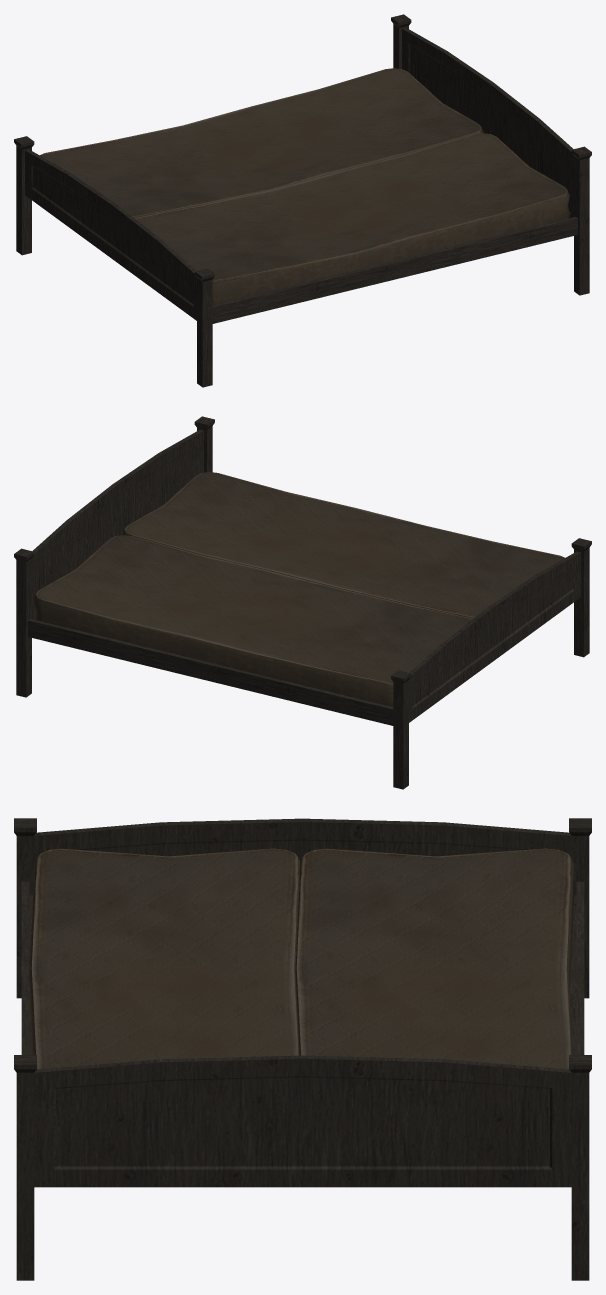
File: bed_4.obj
The picture shows the model from 3 angles, top to bottom: view 1: azimuth 30°, elevation 25°; view 2: azimuth 150°, elevation 25°; view 3: azimuth 270°, elevation 25°; orthographic projection. The views are drawn at different scales.
Visible parts, largest first — view 1: bed_4; view 2: bed_4; view 3: bed_4.
Boxes of the visible parts, box(x1,y1,x2,y2) form: bed_4: box(14, 14, 591, 387); bed_4: box(14, 416, 591, 789); bed_4: box(14, 818, 591, 1280).
Size of the model in its own units: 2.74 by 0.9621 by 2.29.
